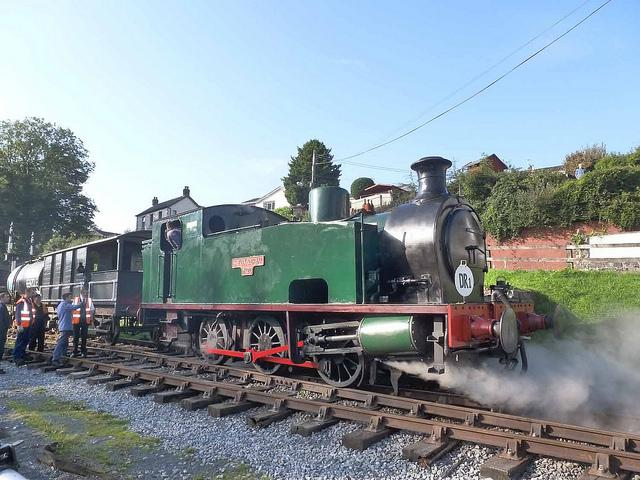Train: (7, 156, 570, 403)
